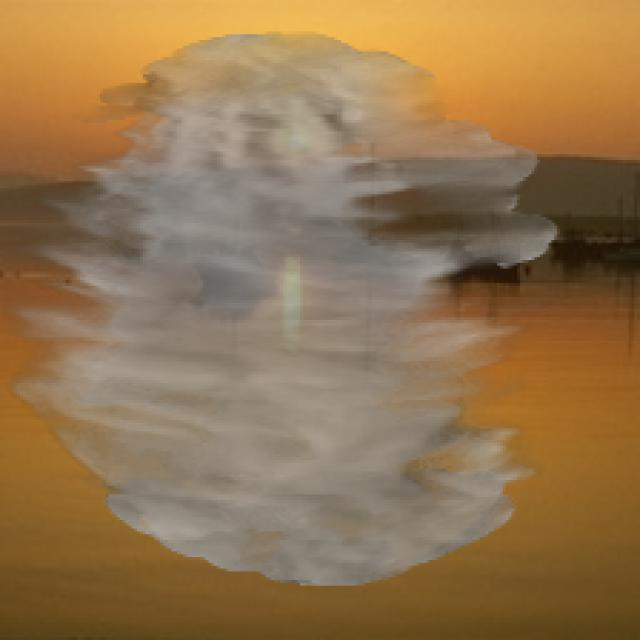Smoke: (3, 31, 560, 586)
